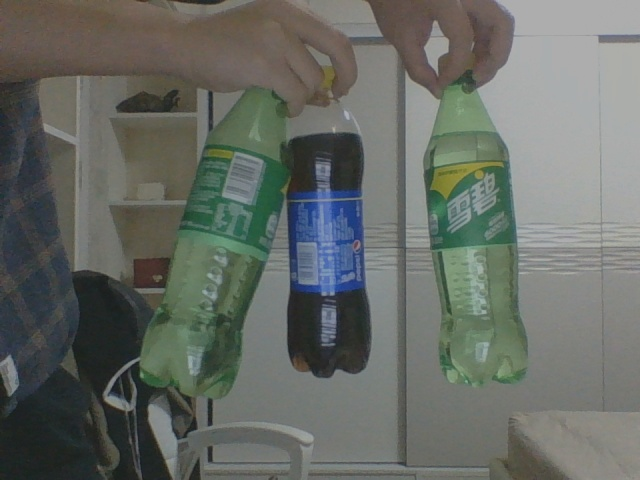Cola: (288, 69, 371, 376)
Sprite: (139, 90, 288, 397), (422, 54, 529, 385)
